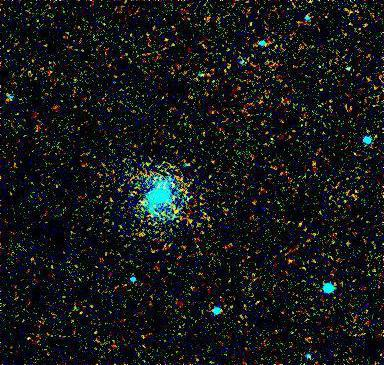star: (127, 185, 157, 215)
